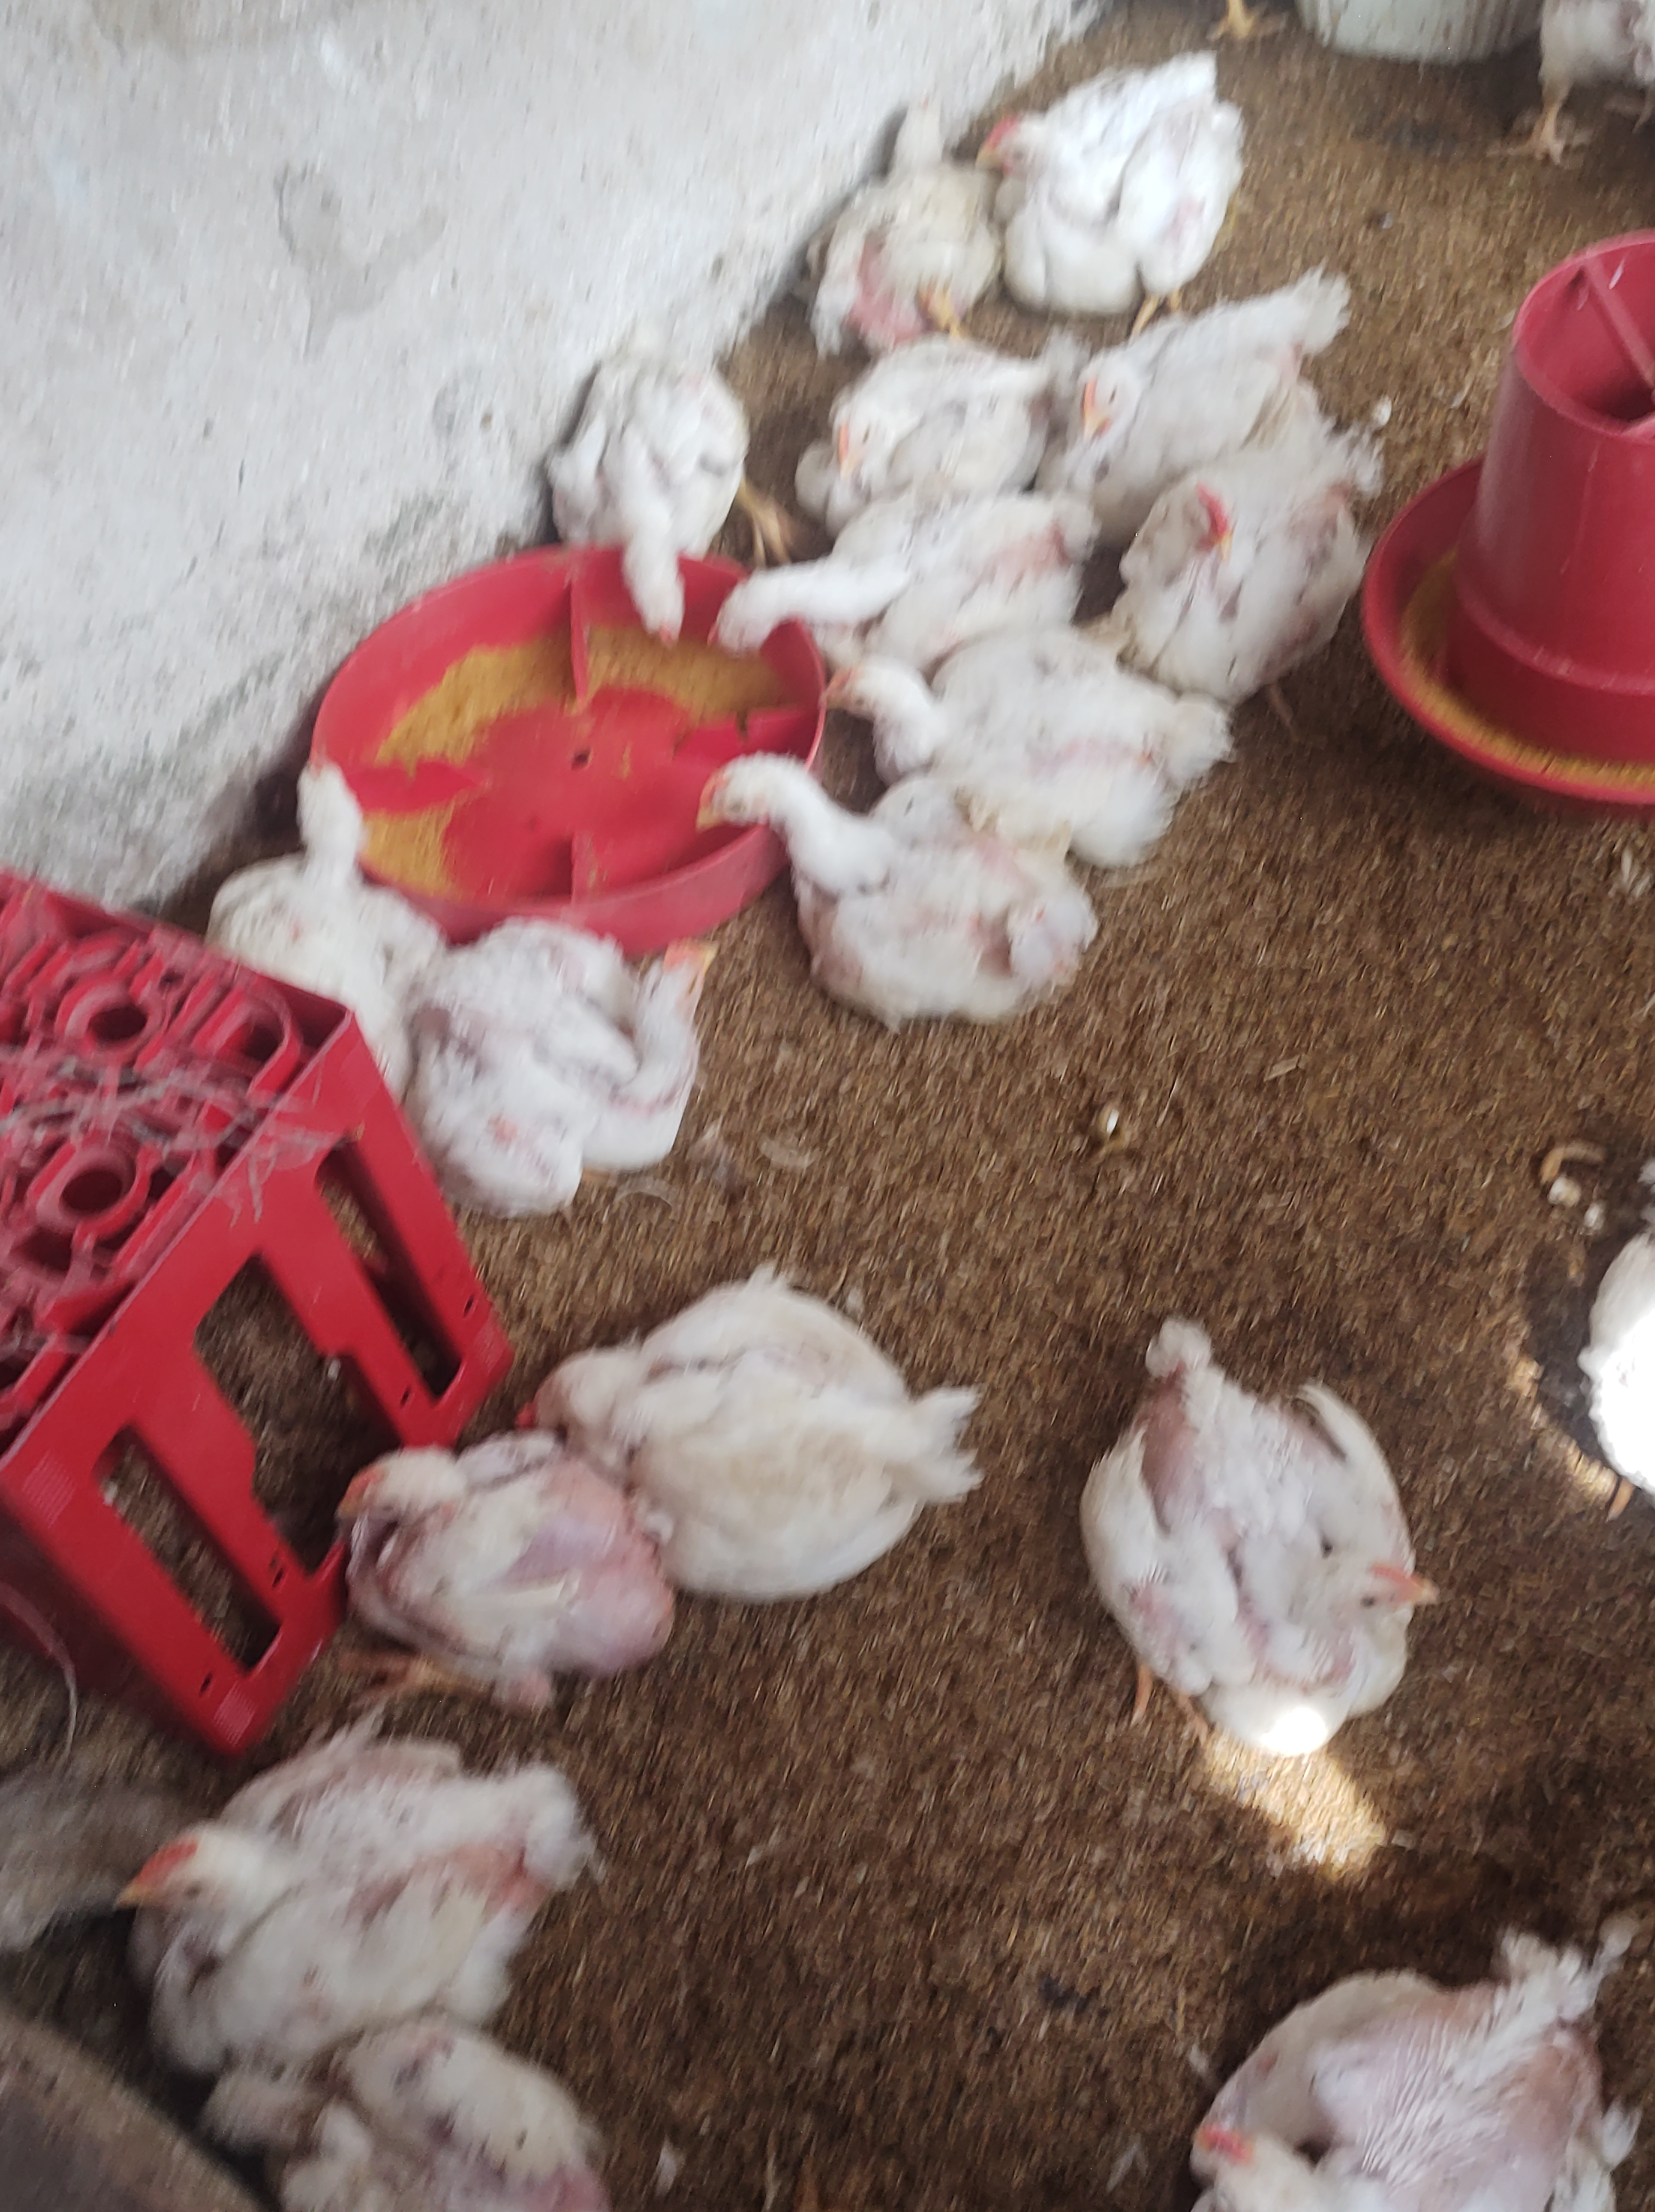Pollos: (115, 1716, 608, 2080), (518, 1252, 977, 1576), (1097, 1316, 1422, 1749), (1191, 1897, 1634, 2212), (275, 1428, 704, 1701), (699, 756, 1076, 1064), (205, 1956, 595, 2209), (433, 883, 721, 1212), (826, 631, 1200, 882), (177, 727, 421, 1047), (1137, 421, 1420, 689), (1060, 266, 1382, 470), (711, 508, 1097, 676), (782, 49, 998, 344), (530, 322, 734, 623), (1005, 66, 1245, 294), (810, 327, 1041, 550), (1559, 1141, 1655, 1548), (1464, 0, 1655, 176), (1200, 0, 1293, 50)
